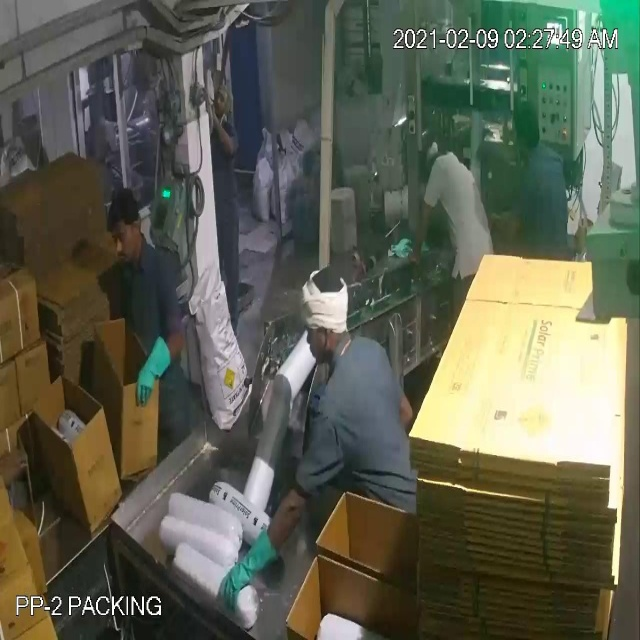Guantes: (214, 519, 282, 620), (132, 325, 181, 415)
Sin_guantes: (204, 103, 239, 164), (410, 190, 433, 272)
